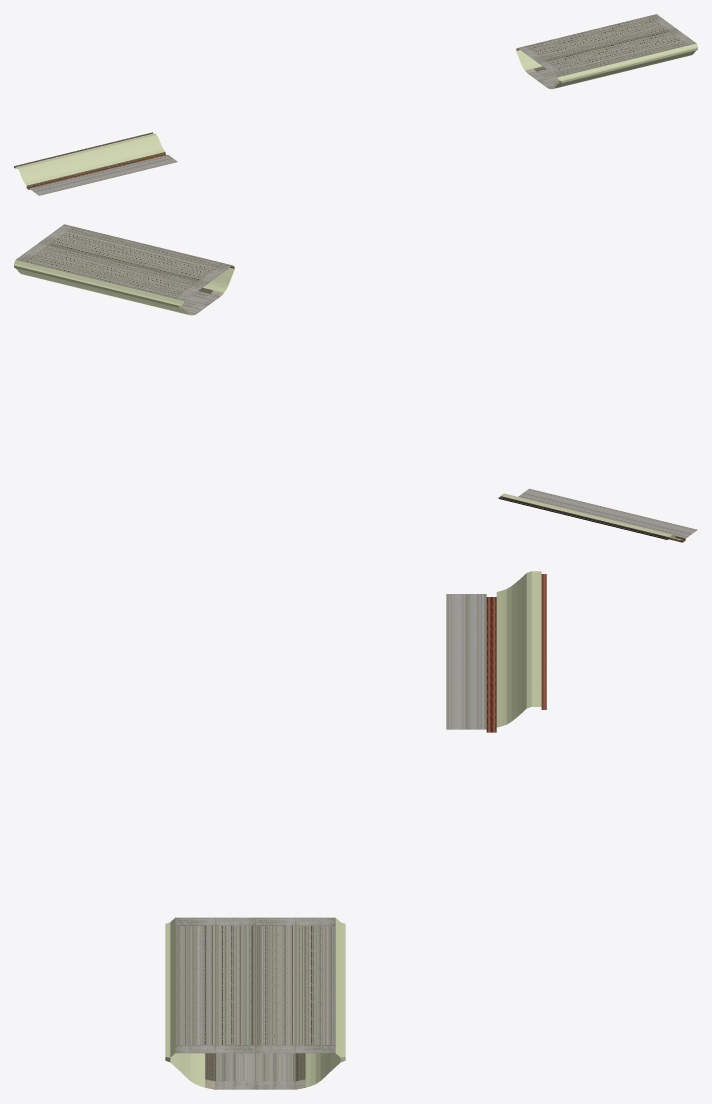
File: PlatformUnitHor_tunns.fbx
3 renders of one model, top to bottom at view 1: azimuth 30°, elevation 25°; view 2: azimuth 150°, elevation 25°; view 3: azimuth 270°, elevation 25°, orthographic. The views are drawn at different scales.
Visible parts, largest first — view 1: PlatformUnitHor_Y_Lod0.002, PlatformUnitHor_Y_Lod0.008; view 2: PlatformUnitHor_Y_Lod0.002, PlatformUnitHor_Y_Lod0.008; view 3: PlatformUnitHor_Y_Lod0.002, PlatformUnitHor_Y_Lod0.008.
Boxes of the visible parts, bbox=[...] form: PlatformUnitHor_Y_Lod0.002: bbox=[516, 14, 697, 89]; PlatformUnitHor_Y_Lod0.008: bbox=[14, 132, 177, 195]; PlatformUnitHor_Y_Lod0.002: bbox=[14, 224, 234, 315]; PlatformUnitHor_Y_Lod0.008: bbox=[498, 488, 697, 542]; PlatformUnitHor_Y_Lod0.002: bbox=[165, 917, 345, 1089]; PlatformUnitHor_Y_Lod0.008: bbox=[446, 571, 546, 732].
Size of the model in its own units: 271 by 26.22 by 76.05.
